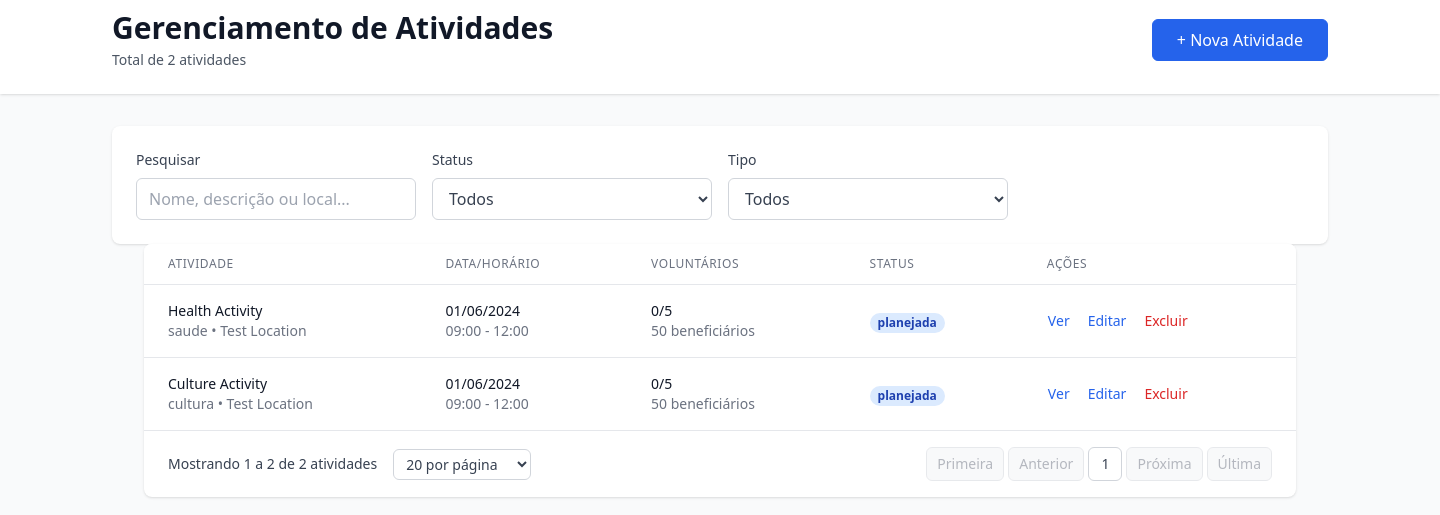
Test case: ONGActivitiesPage › Filtering › should filter activities by type
Expected: the text "Health Activity" is shown, [168,301,262,320]
Expected: the text "Culture Activity" is shown, [168,374,267,393]
Select "Saúde" in the dropdown below "Tipo". click: (868, 199)
box: [728,178,1008,220]
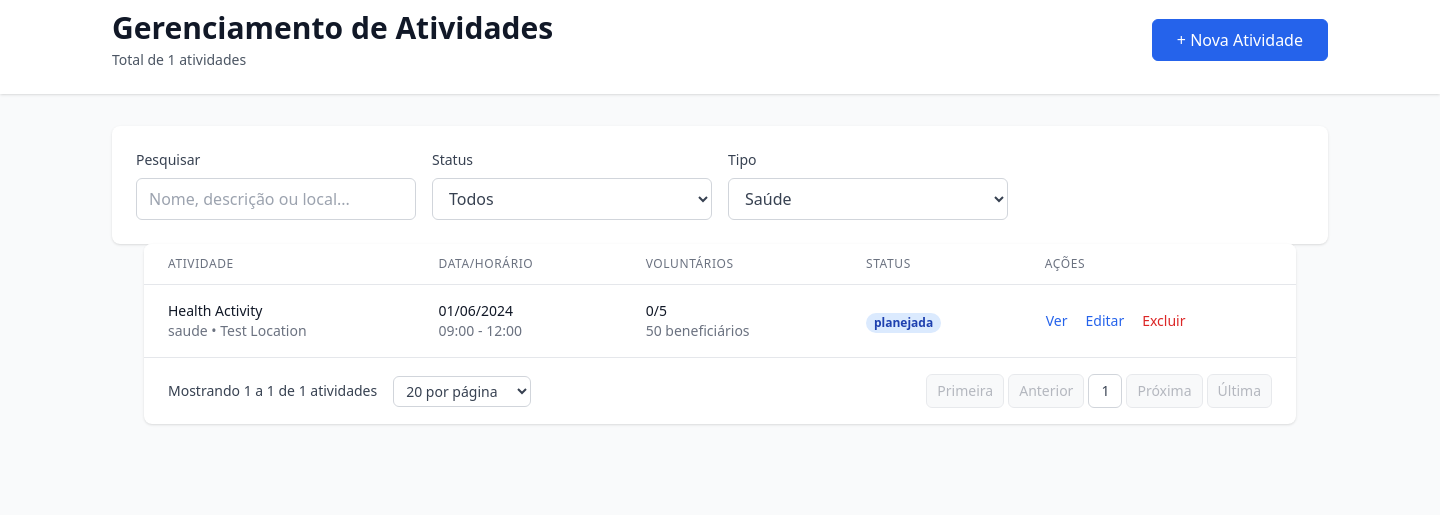
Expected: the text "Health Activity" is shown, [168,301,262,320]
Now the text "Culture Activity" is gone
